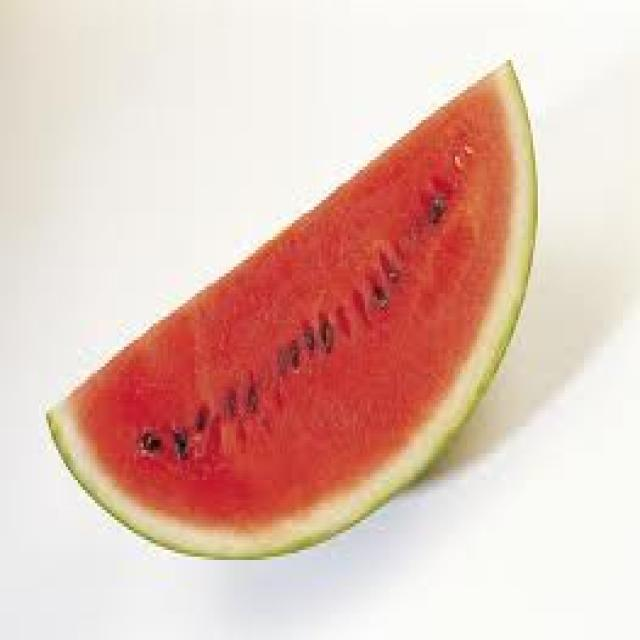Watermelon: (19, 54, 572, 564)
